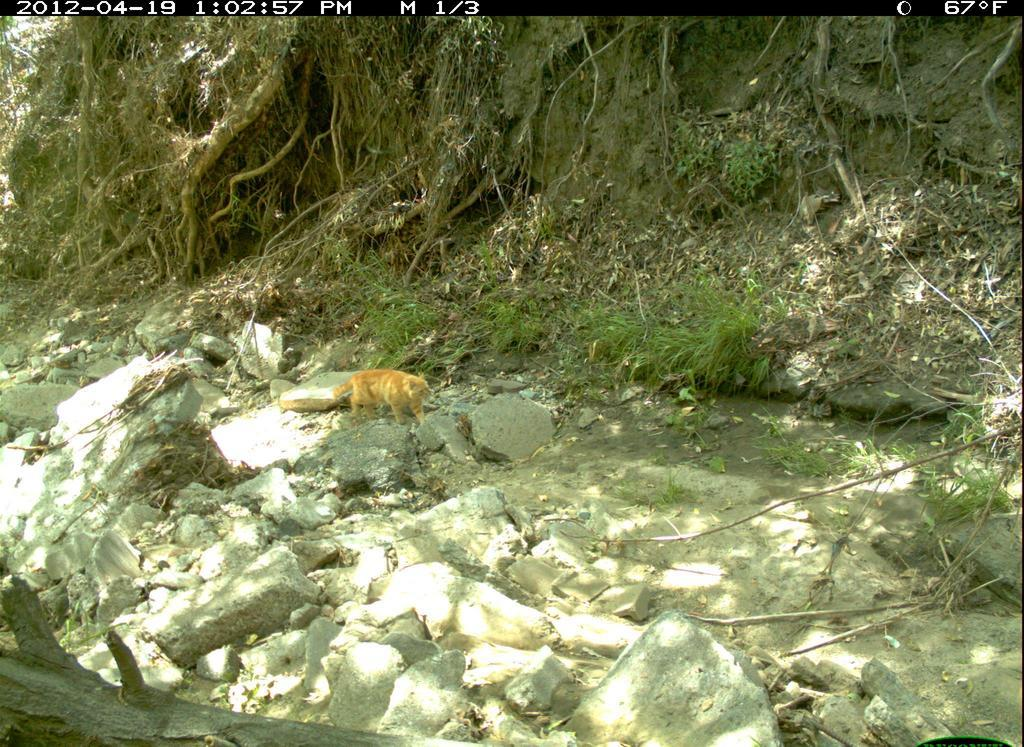cat: (322, 338, 488, 456)
